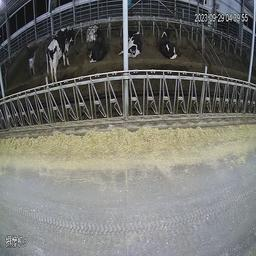cow: (46, 28, 78, 84), (159, 26, 180, 58), (91, 27, 108, 63), (127, 27, 144, 60)
